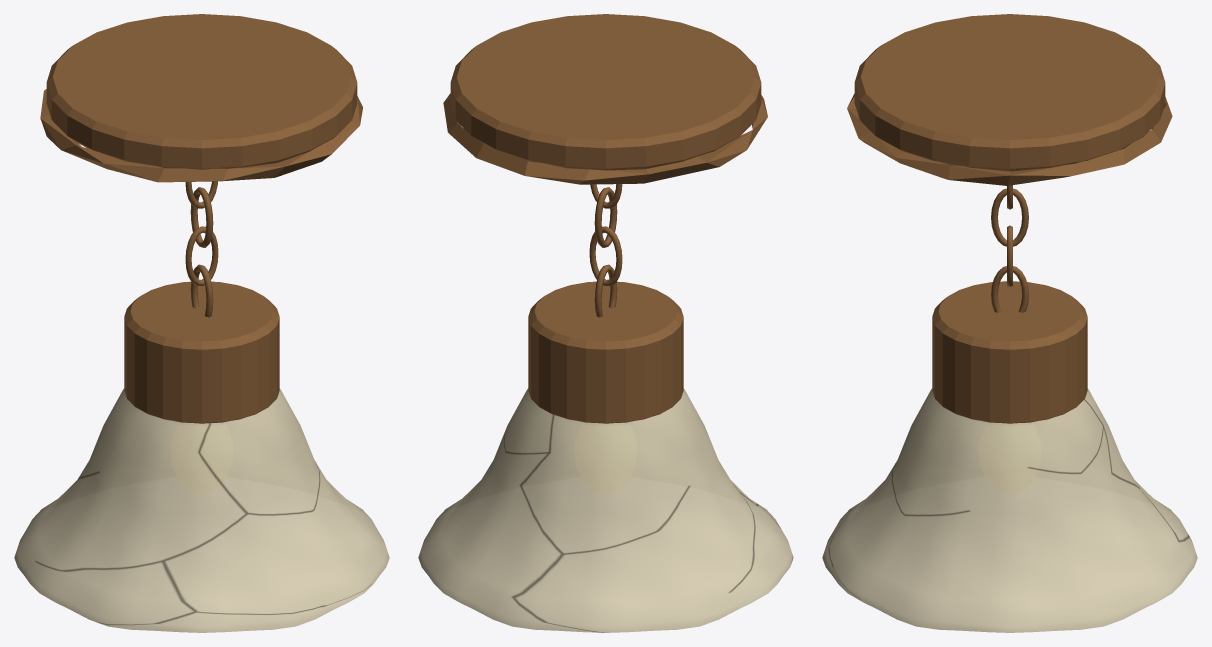
File: ceiling_pendant.glb
3 renders of one model, left to right at view 1: azimuth 30°, elevation 25°; view 2: azimuth 150°, elevation 25°; view 3: azimuth 270°, elevation 25°, orthographic.
Parts seen in each view (by area): view 1: BrokenFlutedBellShade, IntactFlutedBellShade, PendantCanopy, BrokenHolder, CanopyRim, InterlockedChain_3, InterlockedChain_2, InterlockedChain_4; view 2: BrokenFlutedBellShade, IntactFlutedBellShade, PendantCanopy, BrokenHolder, CanopyRim, InterlockedChain_3, InterlockedChain_2, InterlockedChain_4; view 3: BrokenFlutedBellShade, IntactFlutedBellShade, PendantCanopy, BrokenHolder, CanopyRim, InterlockedChain_2, InterlockedChain_4.
Boxes of the visible parts, box(x1,y1,x2,y2) form: BrokenFlutedBellShade: box(14, 388, 389, 632); IntactFlutedBellShade: box(15, 389, 388, 632); PendantCanopy: box(46, 14, 357, 169); BrokenHolder: box(124, 281, 279, 423); CanopyRim: box(40, 89, 362, 182); InterlockedChain_3: box(185, 226, 218, 286); InterlockedChain_2: box(190, 187, 213, 247); InterlockedChain_4: box(190, 264, 213, 317); BrokenFlutedBellShade: box(418, 388, 793, 632); IntactFlutedBellShade: box(419, 389, 792, 632); PendantCanopy: box(450, 14, 761, 170); BrokenHolder: box(528, 281, 683, 423); CanopyRim: box(443, 93, 767, 184); InterlockedChain_3: box(589, 226, 622, 286); InterlockedChain_2: box(594, 187, 617, 247); InterlockedChain_4: box(594, 264, 617, 317); BrokenFlutedBellShade: box(822, 388, 1197, 632); IntactFlutedBellShade: box(823, 389, 1196, 632); PendantCanopy: box(854, 14, 1165, 171); BrokenHolder: box(932, 281, 1087, 423); CanopyRim: box(847, 93, 1172, 185); InterlockedChain_2: box(991, 188, 1028, 246); InterlockedChain_4: box(991, 266, 1028, 312).
Bounding box in the file's own units: 0.483 × 0.6825 × 0.483.
5 materials, 3 textured.
